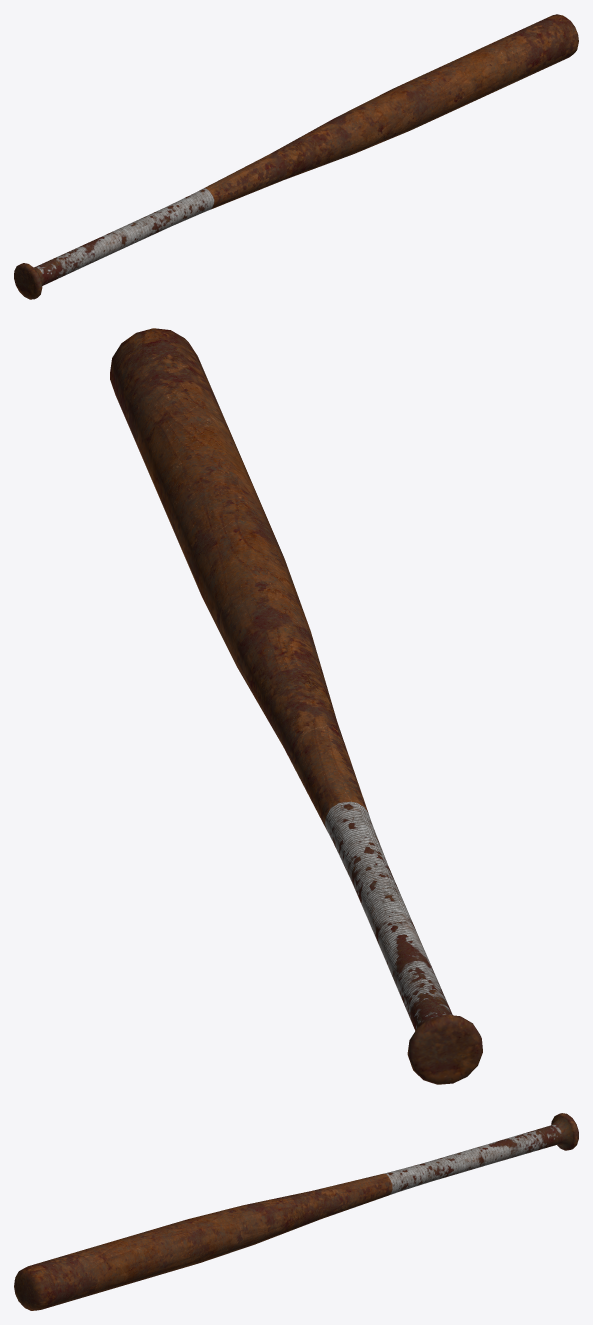
File: Anim_idle_bate_objetos.0020.obj
The picture shows the model from 3 angles, top to bottom: view 1: azimuth 90°, elevation 25°; view 2: azimuth 150°, elevation 25°; view 3: azimuth 270°, elevation 25°; orthographic projection. The views are drawn at different scales.
Visible parts, largest first — view 1: Bate1; view 2: Bate1; view 3: Bate1.
Part boxes in pixels (x1,y1,x2,y2): Bate1: (14, 14, 578, 299); Bate1: (110, 328, 482, 1084); Bate1: (14, 1113, 578, 1310).
Bounding box in the file's own units: 3.74 × 0.6604 × 4.14.
